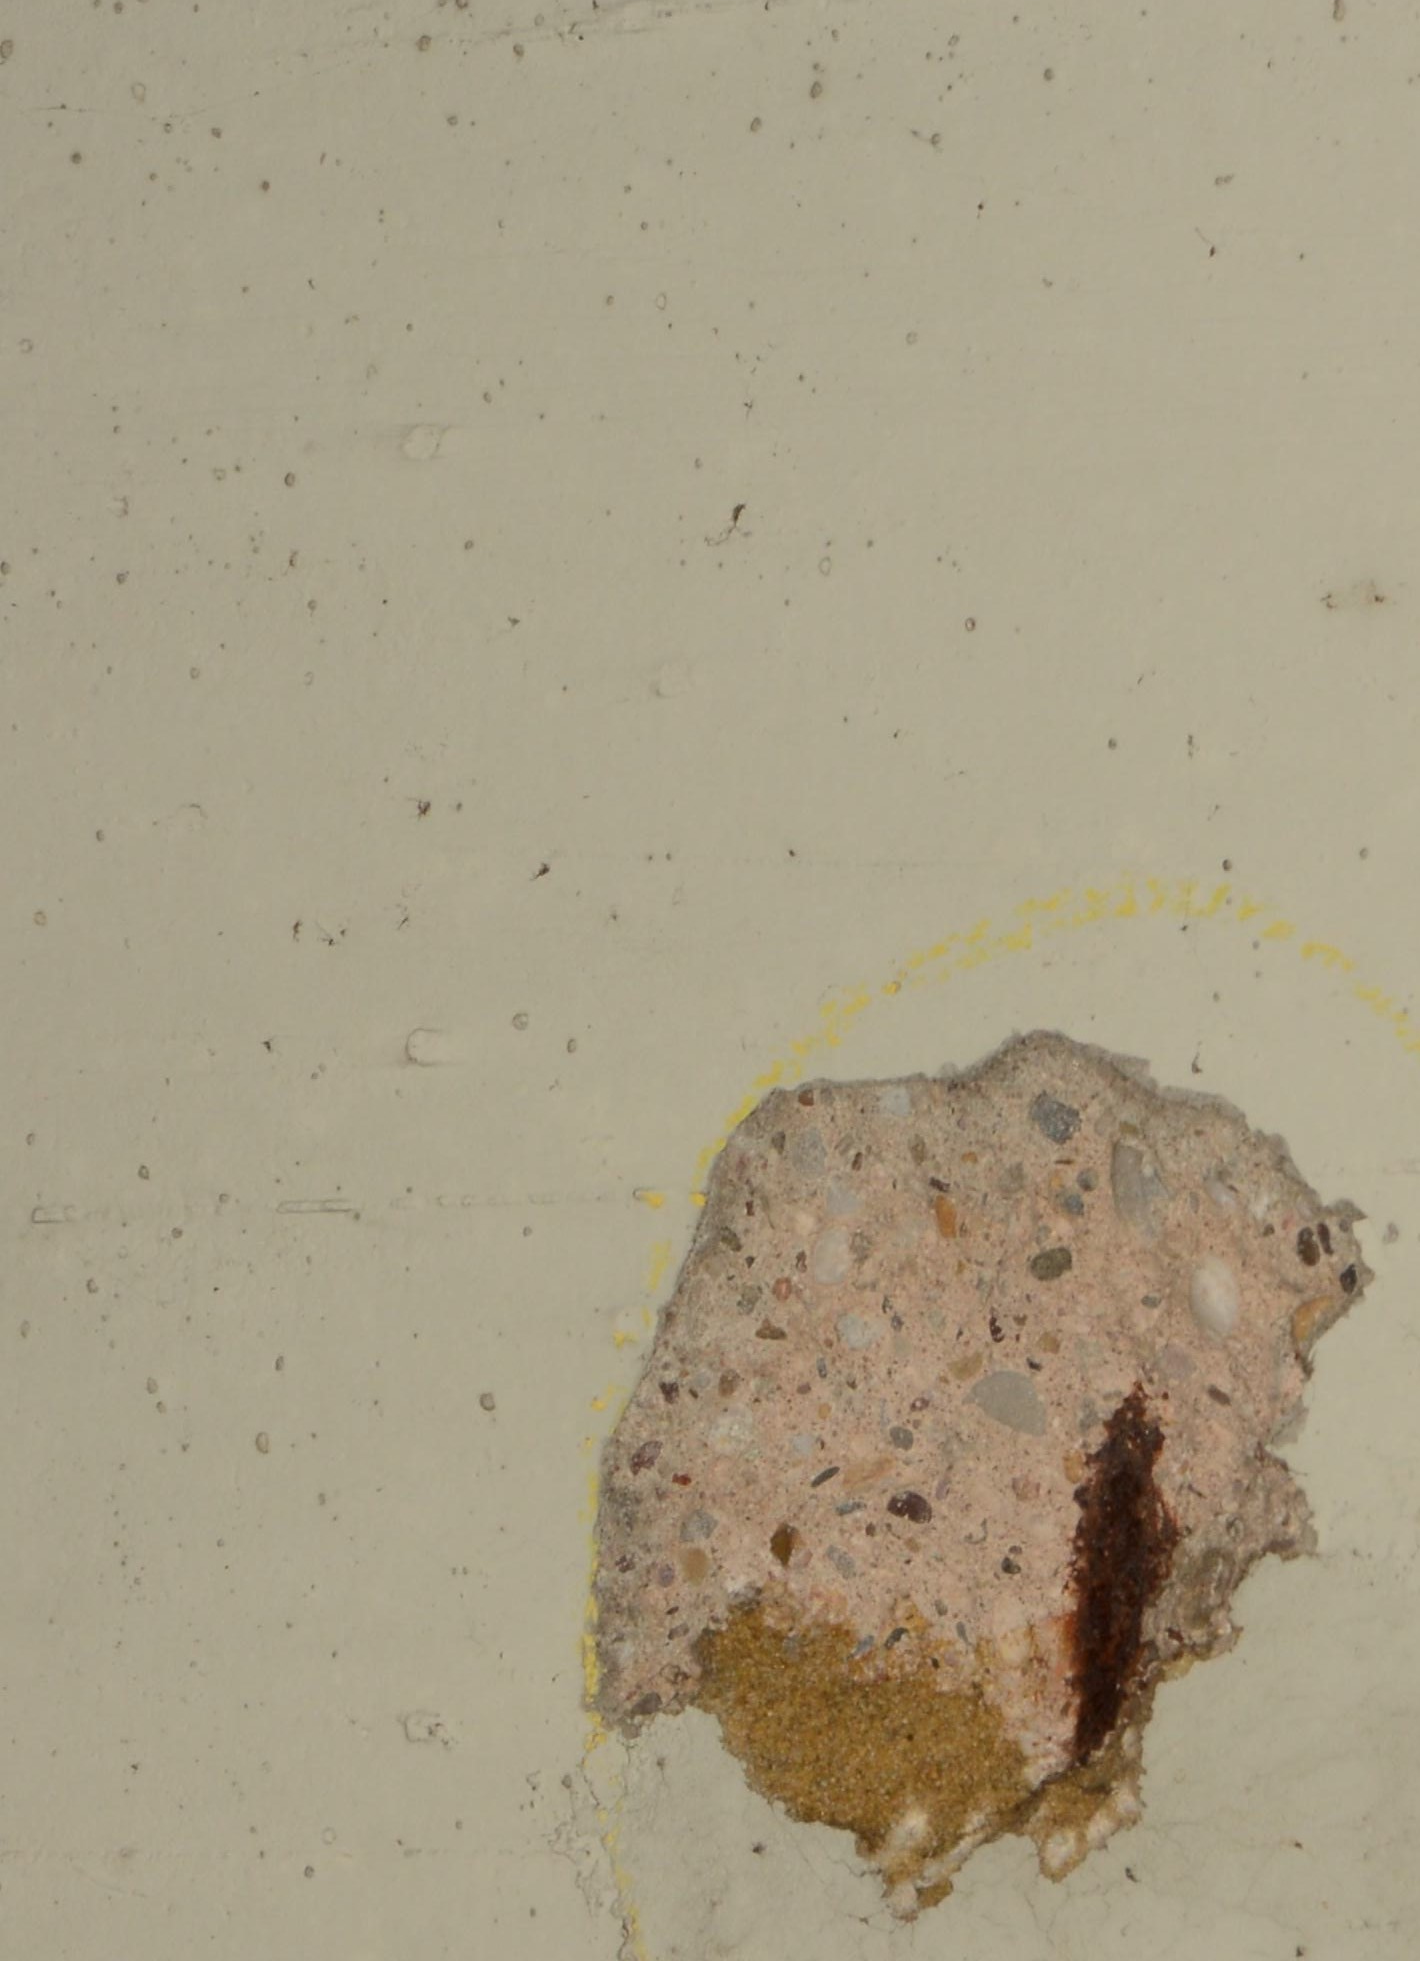Exposed reinforcement: (1068, 1379, 1178, 1768)
Spalling: (591, 1031, 1374, 1921)
